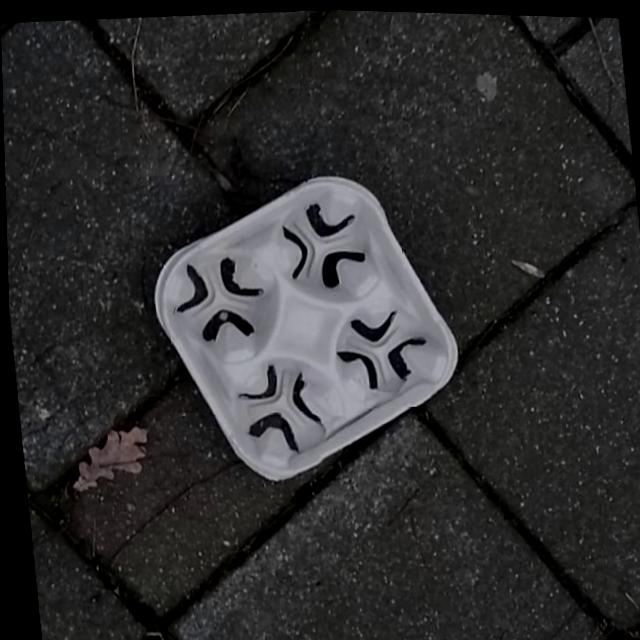Paper: (135, 158, 472, 494)
